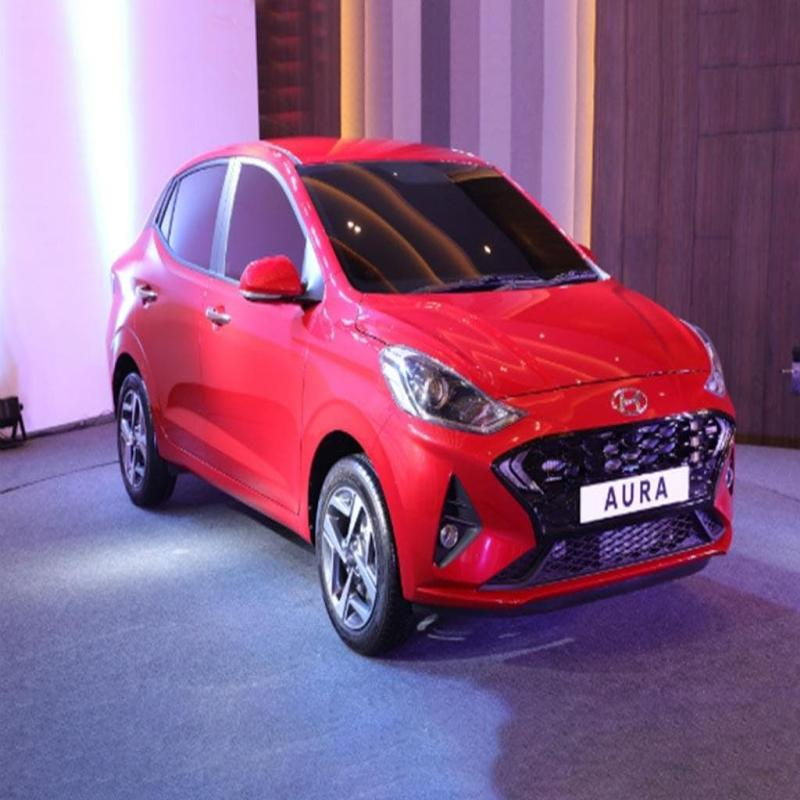car: (63, 121, 800, 800), (114, 125, 771, 762)
